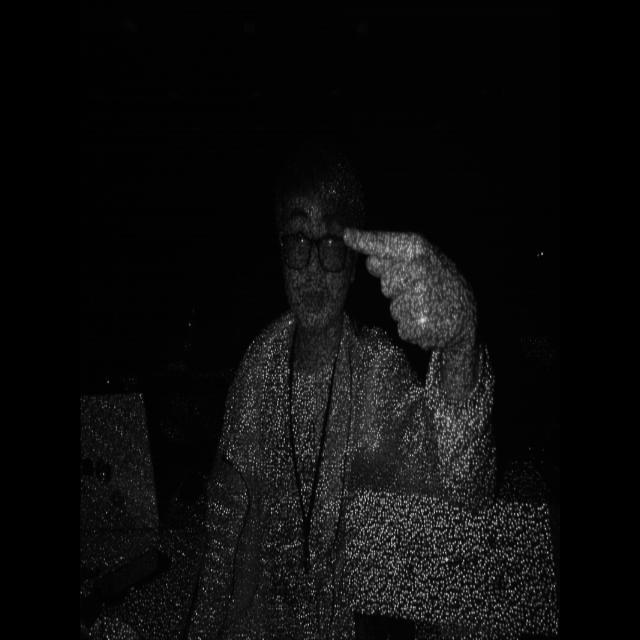G: (335, 213, 490, 392)
